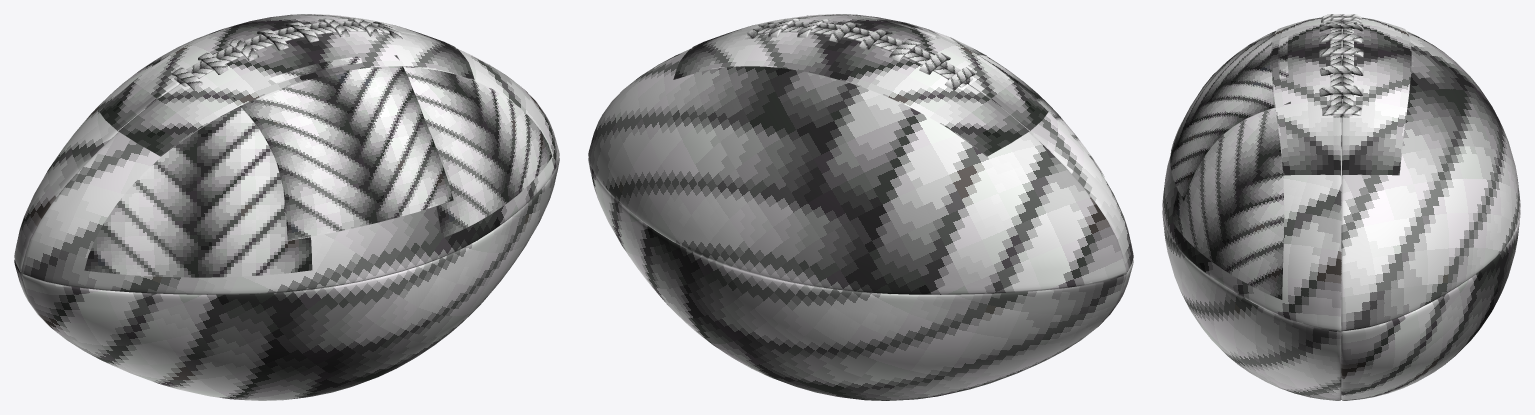
File: Football_06_SM.glb
3 renders of one model, left to right at view 1: azimuth 30°, elevation 25°; view 2: azimuth 150°, elevation 25°; view 3: azimuth 270°, elevation 25°, orthographic. The views are drawn at different scales.
Parts seen in each view (by area): view 1: Football_06_SM; view 2: Football_06_SM; view 3: Football_06_SM.
Boxes of the visible parts, box(x1,y1,x2,y2) form: Football_06_SM: box(14, 14, 559, 400); Football_06_SM: box(588, 14, 1133, 400); Football_06_SM: box(1162, 14, 1520, 400).
Bounding box in the file's own units: 3.06 × 1.92 × 1.89.
Materials: 5 (5 with a texture image).
